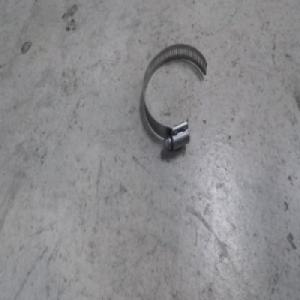AdjustableClamp: (140, 46, 209, 154)
